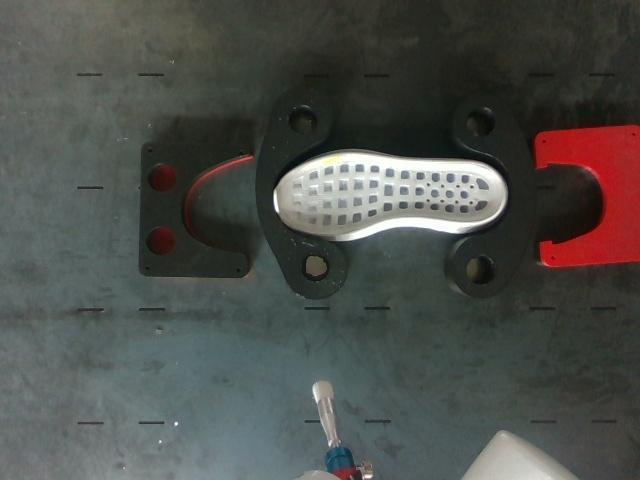shoes: (276, 153, 505, 234)
